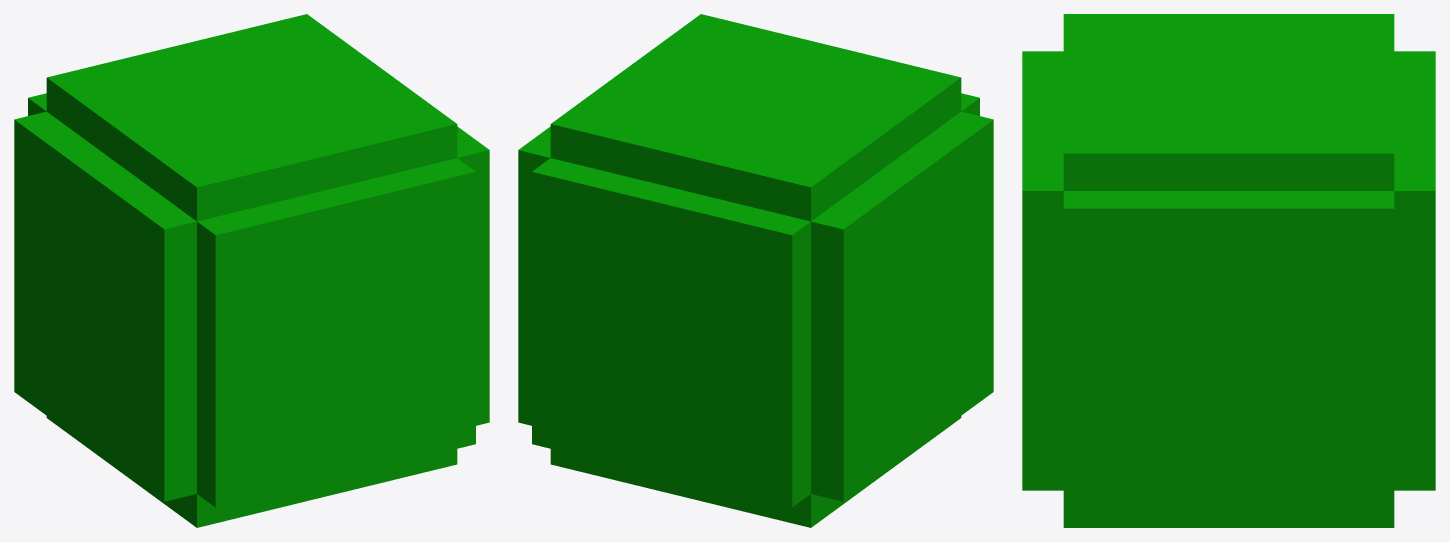
File: bush_2.obj
3 views of the same model, side by side, from view 1: azimuth 30°, elevation 25°; view 2: azimuth 150°, elevation 25°; view 3: azimuth 270°, elevation 25° (orthographic). The views are drawn at different scales.
Bounding box in the file's own units: 10 × 10 × 10.
Materials: 1 (1 with a texture image).
